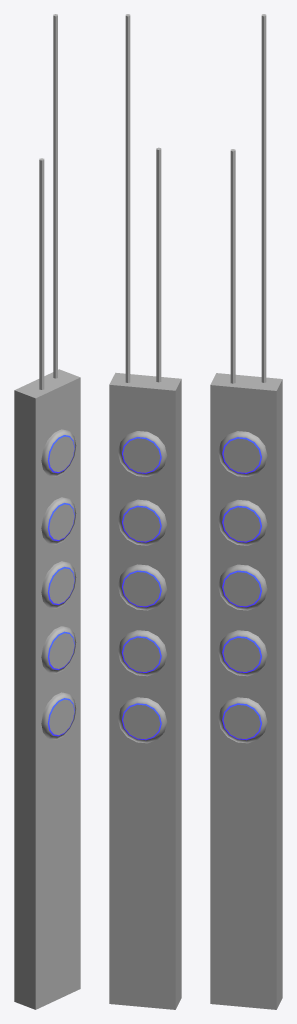
The model's file is mbill4.fbx.
The picture shows the model from 3 angles, left to right: view 1: azimuth 30°, elevation 25°; view 2: azimuth 150°, elevation 25°; view 3: azimuth 330°, elevation 25°; orthographic projection.
Visible parts, largest first — view 1: polySurface127; view 2: polySurface127; view 3: polySurface127.
Part boxes in pixels (x1,y1,x2,y2): polySurface127: (14, 14, 80, 1009); polySurface127: (109, 14, 181, 1009); polySurface127: (210, 14, 282, 1009).
Size of the model in its own units: 161 by 2390 by 109.
